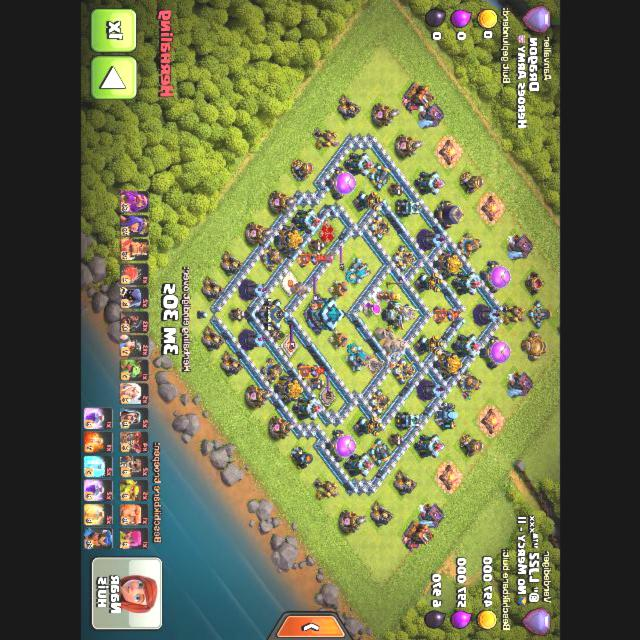AD: (413, 272, 444, 293), (413, 335, 444, 356), (352, 191, 383, 212), (353, 416, 383, 437)
AirSweeper: (328, 330, 350, 350), (328, 280, 350, 299)
BombTower: (395, 412, 423, 429), (395, 199, 422, 216)
Canon: (527, 300, 552, 329), (368, 438, 391, 468), (457, 233, 483, 259), (457, 371, 482, 397), (367, 163, 390, 191), (260, 245, 283, 272), (260, 358, 283, 385)
ClanCastle: (254, 300, 290, 330)
Eagle: (381, 301, 418, 330)
Inferno: (297, 363, 324, 380), (432, 306, 459, 323), (297, 251, 325, 267)
KingPad: (281, 334, 299, 358)
Mortar: (290, 159, 314, 182), (460, 434, 484, 457), (459, 171, 483, 194), (290, 446, 313, 469)
QueenPad: (318, 221, 336, 247)
RcPad: (319, 387, 335, 407)
Scattershot: (345, 344, 371, 372), (345, 258, 371, 284)
TH13: (303, 297, 346, 332)
WardenPad: (281, 272, 298, 295)
WizzTower: (239, 279, 267, 300), (238, 329, 266, 350), (473, 304, 501, 325), (417, 380, 445, 401), (417, 229, 445, 250)
Xbow: (392, 245, 416, 272), (392, 358, 415, 385), (368, 214, 391, 241), (368, 389, 390, 416)
